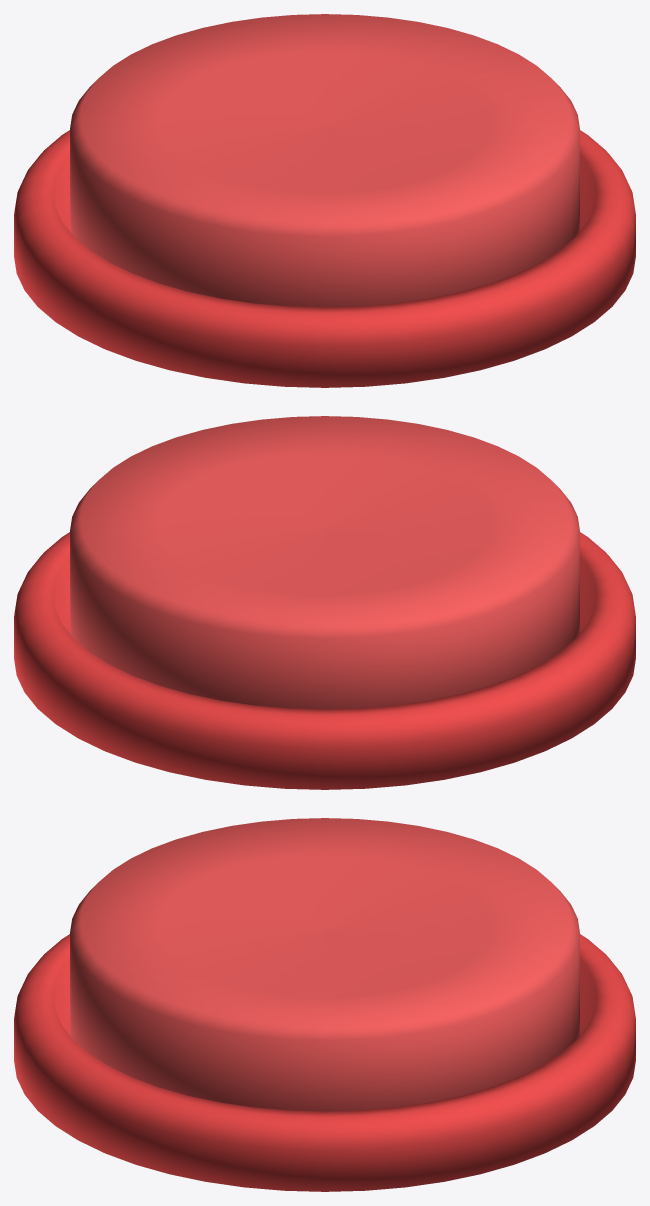
Rendered from arcade.glb.
3 renders of one model, top to bottom at view 1: azimuth 30°, elevation 25°; view 2: azimuth 150°, elevation 25°; view 3: azimuth 270°, elevation 25°, orthographic.
Visible parts, largest first — view 1: Object_5, Object_4; view 2: Object_5, Object_4; view 3: Object_5, Object_4.
Boxes of the visible parts, <box> form: Object_5: <box>70,14,579,307</box>; Object_4: <box>14,130,635,387</box>; Object_5: <box>70,416,579,709</box>; Object_4: <box>14,532,635,789</box>; Object_5: <box>70,818,579,1111</box>; Object_4: <box>14,934,635,1191</box>.
Bounding box in the file's own units: 0.03 × 0.0074 × 0.03.
